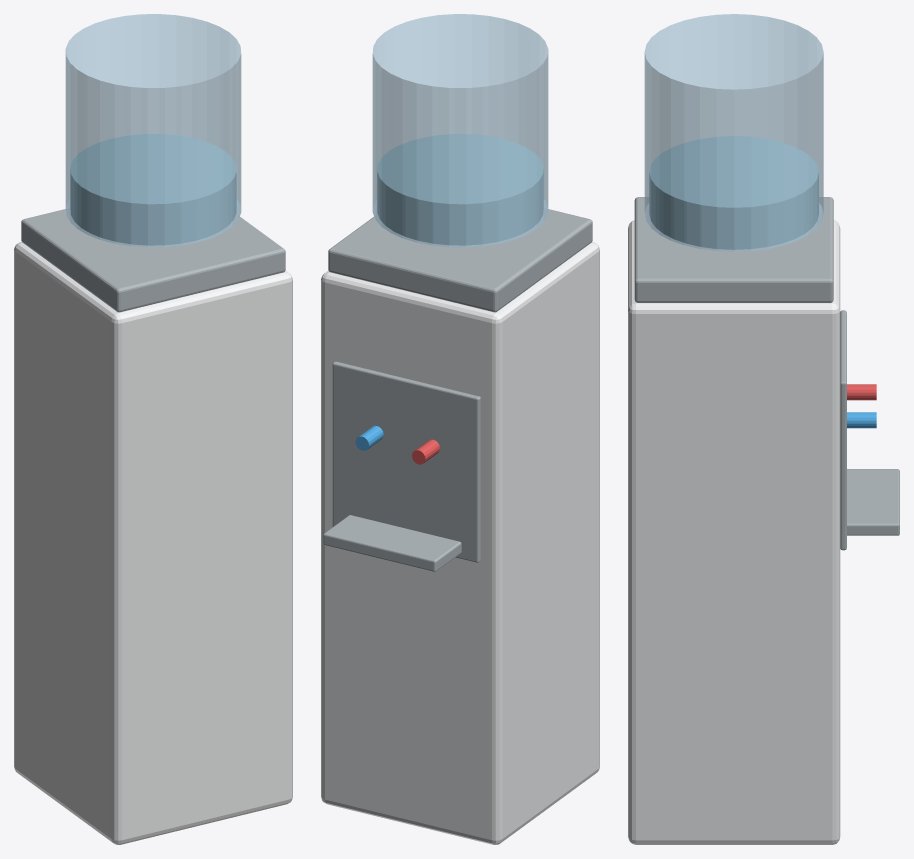
File: s13-dispenser-galon.glb
3 renders of one model, left to right at view 1: azimuth 30°, elevation 25°; view 2: azimuth 150°, elevation 25°; view 3: azimuth 270°, elevation 25°, orthographic.
Visible parts, largest first — view 1: EX_unri:dispenser-badan, EX_unri:galon-kaca, EX_unri:air, EX_unri:dispenser-detail; view 2: EX_unri:dispenser-badan, EX_unri:dispenser-detail, EX_unri:galon-kaca, EX_unri:air; view 3: EX_unri:dispenser-badan, EX_unri:galon-kaca, EX_unri:dispenser-detail, EX_unri:air.
Boxes of the visible parts, left/top/right/bottom form: EX_unri:dispenser-badan: left=14, top=242, right=292, bottom=844; EX_unri:galon-kaca: left=65, top=14, right=241, bottom=247; EX_unri:air: left=70, top=134, right=236, bottom=245; EX_unri:dispenser-detail: left=21, top=209, right=285, bottom=312; EX_unri:dispenser-badan: left=321, top=242, right=599, bottom=844; EX_unri:dispenser-detail: left=323, top=209, right=592, bottom=571; EX_unri:galon-kaca: left=372, top=14, right=548, bottom=247; EX_unri:air: left=377, top=134, right=543, bottom=245; EX_unri:dispenser-badan: left=628, top=220, right=840, bottom=844; EX_unri:galon-kaca: left=644, top=14, right=823, bottom=251; EX_unri:dispenser-detail: left=634, top=197, right=899, bottom=550; EX_unri:air: left=649, top=136, right=818, bottom=249.
Bounding box in the file's own units: 0.32 × 1.25 × 0.41.
